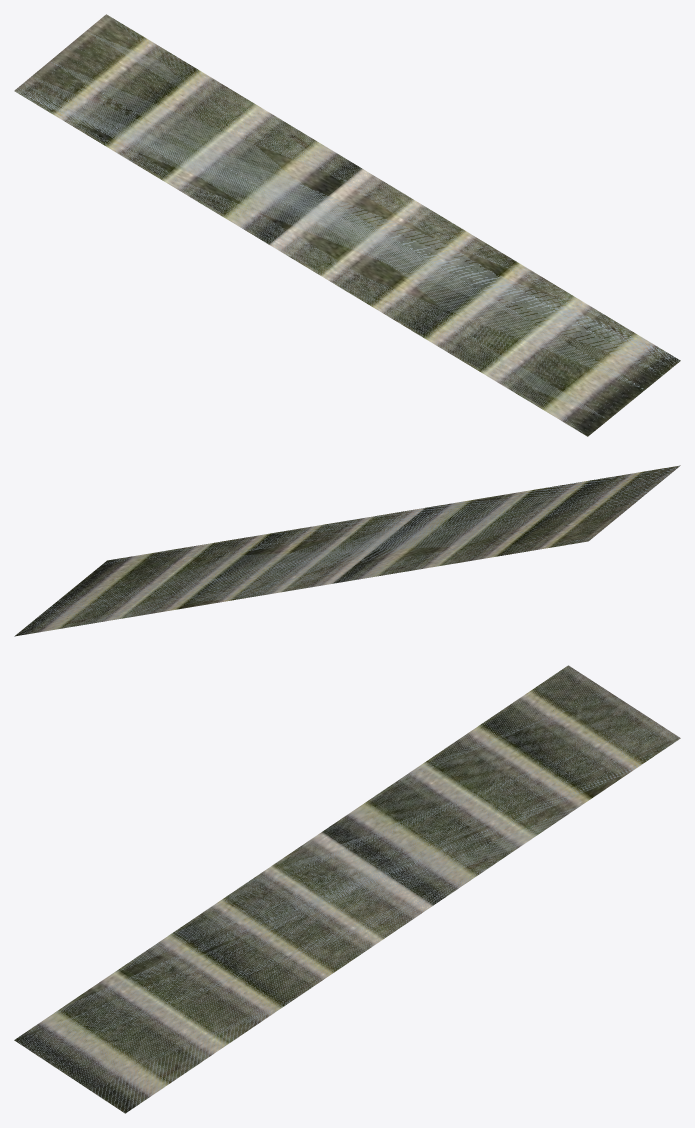
File: 西庸城堡709.dae
3 renders of one model, top to bottom at view 1: azimuth 30°, elevation 25°; view 2: azimuth 210°, elevation 25°; view 3: azimuth 270°, elevation 25°, orthographic.
Visible parts, largest first — view 1: SketchUp; view 2: SketchUp; view 3: SketchUp.
Boxes of the visible parts, x1,y1,x2,y2 form: SketchUp: (14,14,680,436); SketchUp: (14,465,680,636); SketchUp: (14,665,680,1113).
Bounding box in the file's own units: 206 × 259 × 96.61.
